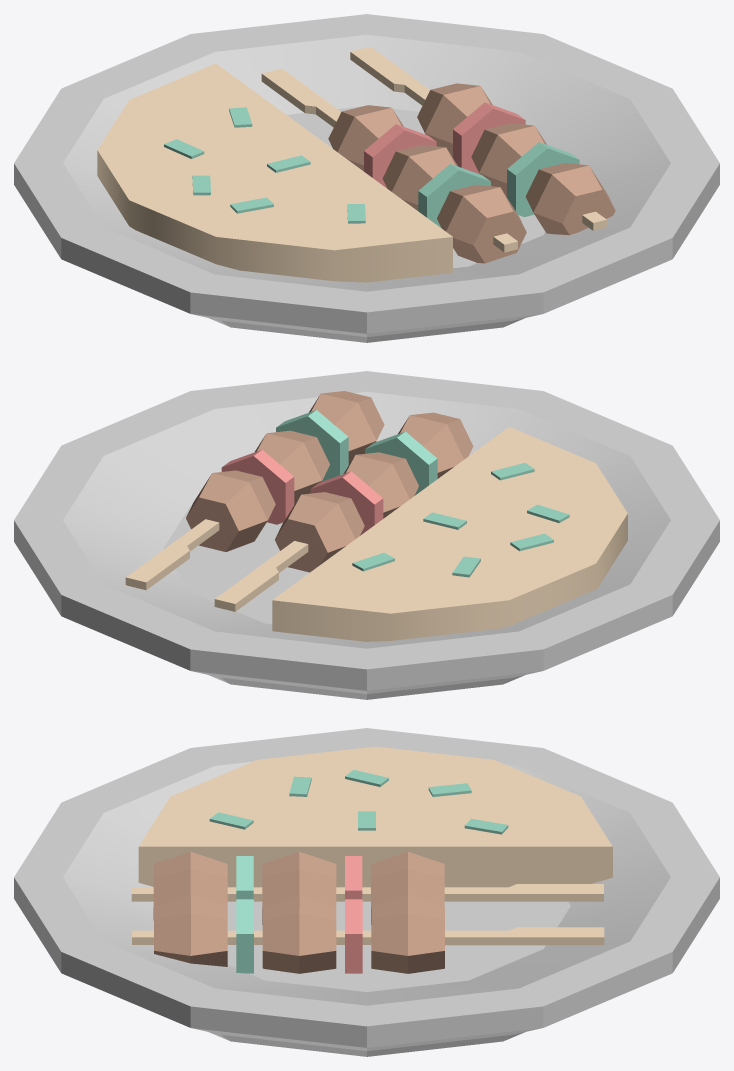
File: asset.glb
3 views of the same model, one above another, from view 1: azimuth 30°, elevation 25°; view 2: azimuth 150°, elevation 25°; view 3: azimuth 270°, elevation 25° (orthographic).
Parts seen in each view (by area): view 1: plate, rice__1_, meat_2_1, meat_2_1_1, meat_1_1_3, meat_1_1_2, meat_1_1, meat_1_1_1, vegetables_1_1_2, skewerVegetables_2, skewerVegetables_2_1, vegetables_1_1_3 (+2 smaller); view 2: plate, rice__1_, meat_1_1_3, meat_1_1_1, meat_2_1_1, meat_1_1_2, meat_2_1, meat_1_1, skewerVegetables_2_1, skewerVegetables_2, vegetables_1_1_3, vegetables_1_1_2 (+2 smaller); view 3: plate, rice__1_, meat_1_1_2, meat_1_1_3, meat_2_1_1, skewerVegetables_2_1, skewerVegetables_2, meat_1_1, meat_2_1, meat_1_1_1, vegetables_1_1_3, vegetables_1_1_2 (+2 smaller).
Part boxes in pixels (box(x1,y1,x2,y2)): plate: box(14, 14, 719, 342); rice__1_: box(97, 63, 452, 282); meat_2_1: box(437, 184, 526, 263); meat_2_1_1: box(525, 163, 615, 235); meat_1_1_3: box(417, 83, 492, 157); meat_1_1_2: box(471, 123, 546, 196); meat_1_1: box(382, 145, 457, 210); meat_1_1_1: box(328, 105, 403, 171); vegetables_1_1_2: box(507, 142, 579, 216); skewerVegetables_2: box(261, 68, 517, 252); skewerVegetables_2_1: box(350, 47, 606, 230); vegetables_1_1_3: box(453, 102, 525, 174); plate: box(14, 371, 719, 699); rice__1_: box(272, 426, 627, 641); meat_1_1_3: box(186, 470, 275, 551); meat_1_1_1: box(275, 492, 364, 572); meat_2_1_1: box(309, 391, 384, 464); meat_1_1_2: box(255, 430, 329, 504); meat_2_1: box(398, 412, 473, 478); meat_1_1: box(343, 452, 418, 518); skewerVegetables_2_1: box(125, 519, 219, 590); skewerVegetables_2: box(214, 541, 308, 611); vegetables_1_1_3: box(221, 449, 294, 524); vegetables_1_1_2: box(276, 410, 348, 481); plate: box(14, 728, 719, 1056); rice__1_: box(138, 746, 612, 887); meat_1_1_2: box(262, 895, 336, 973); meat_1_1_3: box(371, 895, 444, 973); meat_2_1_1: box(154, 895, 227, 966); skewerVegetables_2_1: box(132, 927, 604, 945); skewerVegetables_2: box(131, 884, 603, 901); meat_1_1: box(262, 851, 336, 924); meat_2_1: box(153, 851, 227, 920); meat_1_1_1: box(371, 852, 444, 924); vegetables_1_1_3: box(345, 899, 362, 973); vegetables_1_1_2: box(236, 899, 253, 973).
Bounding box in the file's own units: 89.18 × 13.8 × 89.18.
